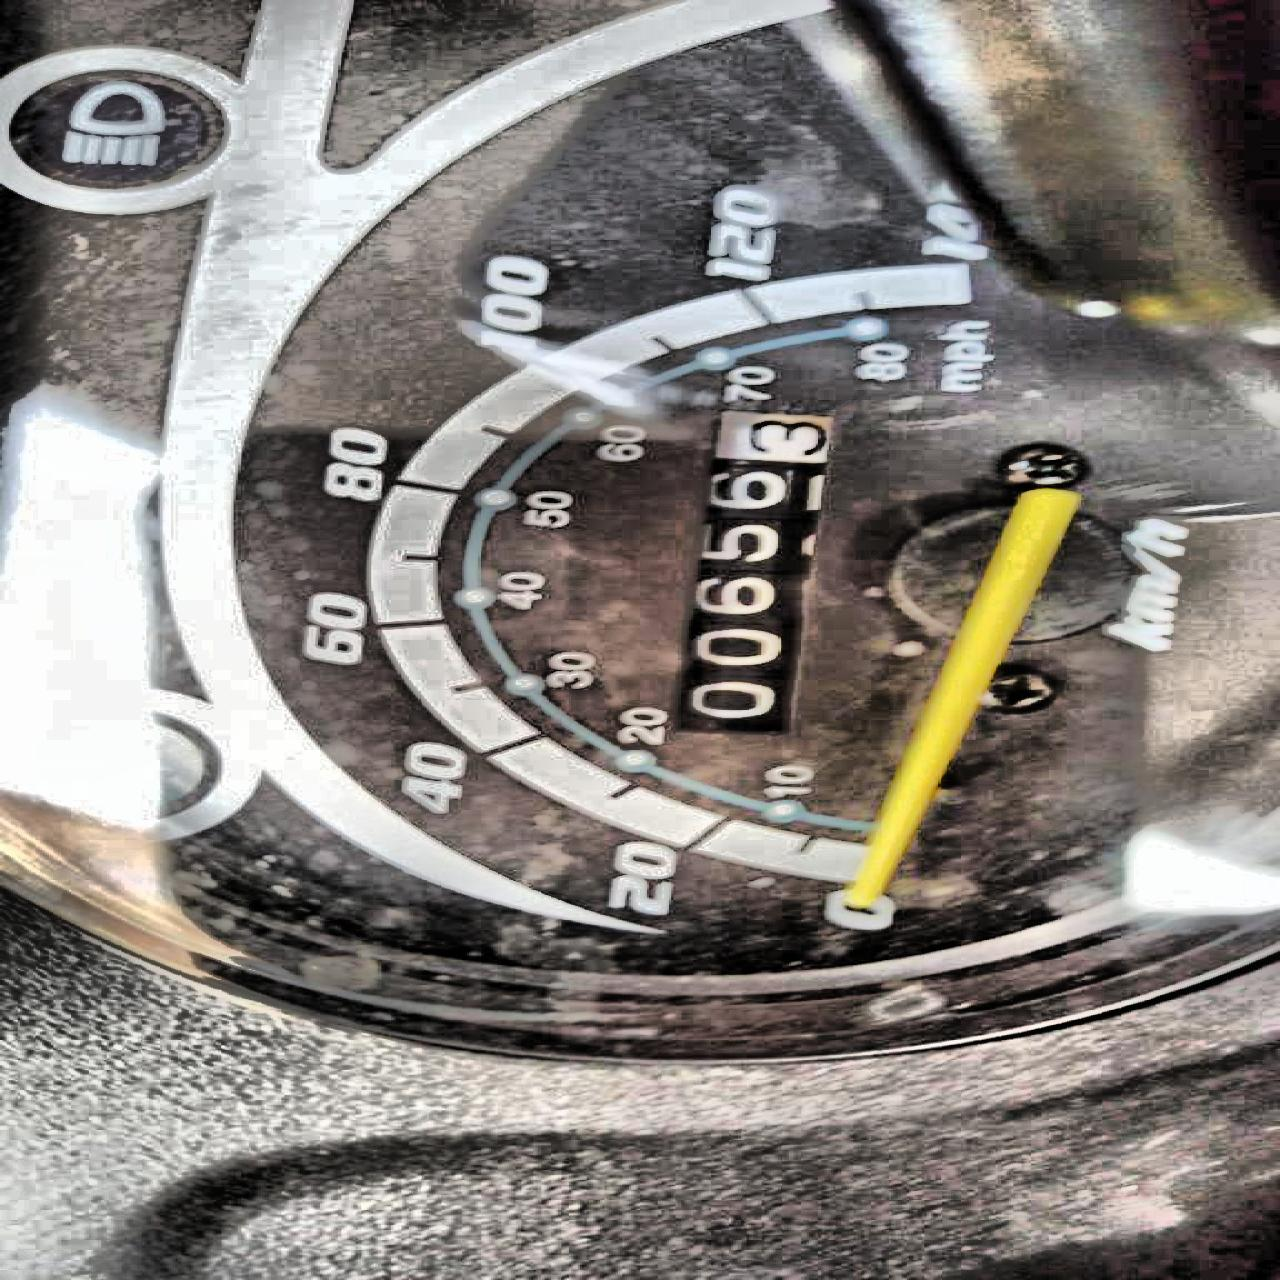0: (685, 625, 789, 669), (680, 676, 779, 722)
3: (737, 414, 831, 456)
5: (685, 517, 779, 565)
6: (678, 572, 784, 618), (693, 464, 787, 511)
odometer: (655, 403, 837, 738)
